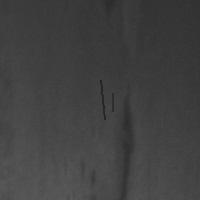inclusion: (107, 79, 136, 198), (75, 156, 99, 190), (102, 1, 122, 35), (98, 78, 106, 121), (110, 91, 114, 113)
